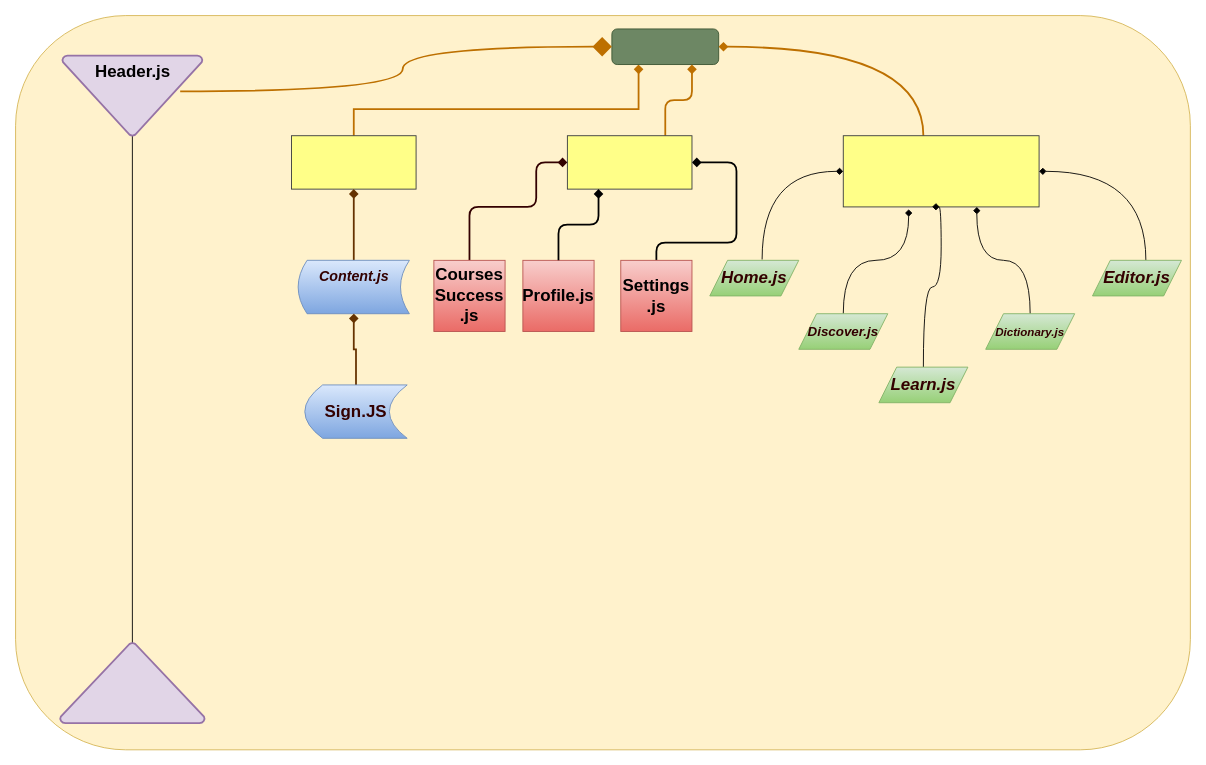
Some shapes in this 1206 by 765 pixel diagram are drawn without their labels. The shapes that lost their labels are listed below. From the top down, each one's box as (x1, y1, x2, y2) in pixels, then its label:
(611, 28, 719, 65): App.js
(291, 135, 416, 189): LandingPage.js
(566, 135, 692, 189): PersonalArea.js
(842, 135, 1039, 207): HomePage.js
(59, 642, 205, 724): Footer.js
